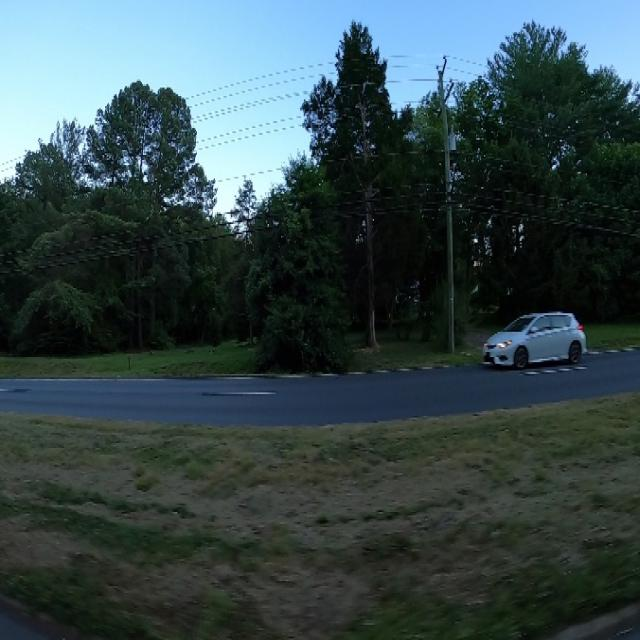car: (470, 290, 597, 389)
